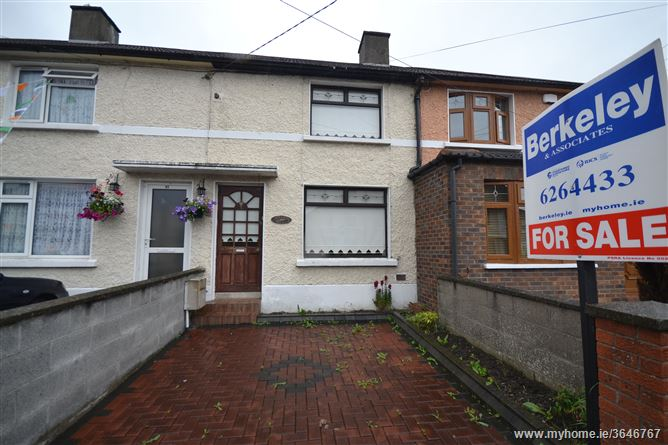property sign: (501, 32, 668, 282)
